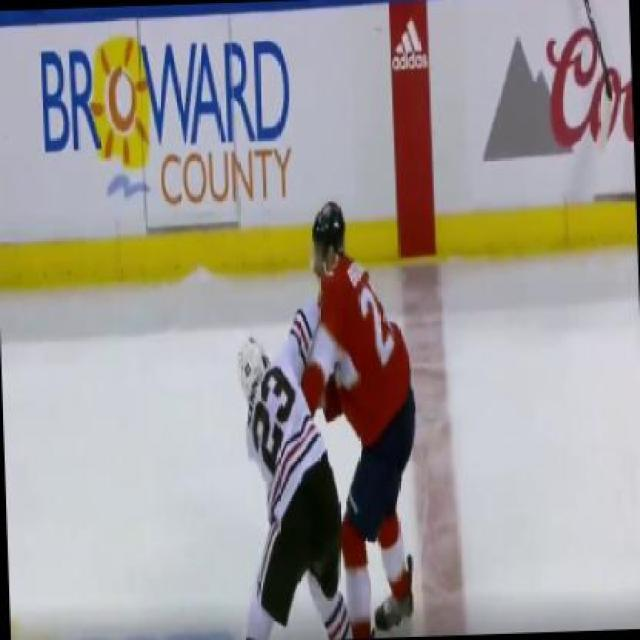fight: (231, 196, 423, 638)
